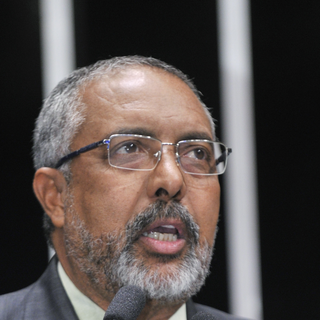eye: (104, 133, 150, 159), (173, 140, 210, 164)
